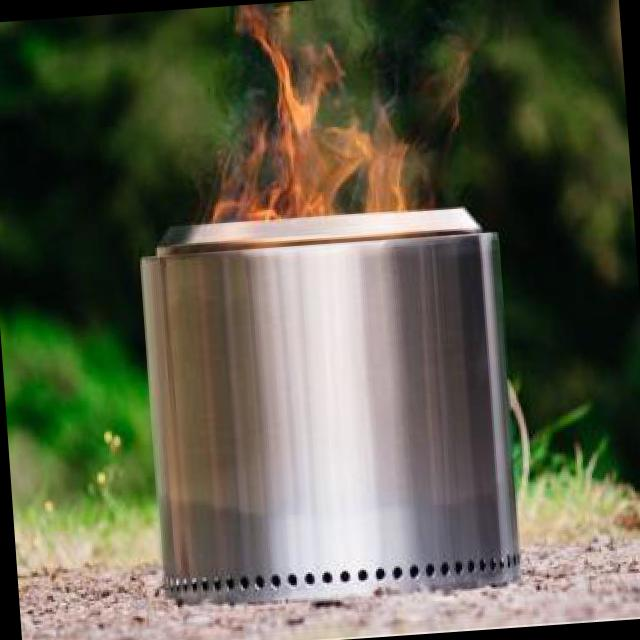Fire: (191, 0, 482, 232)
